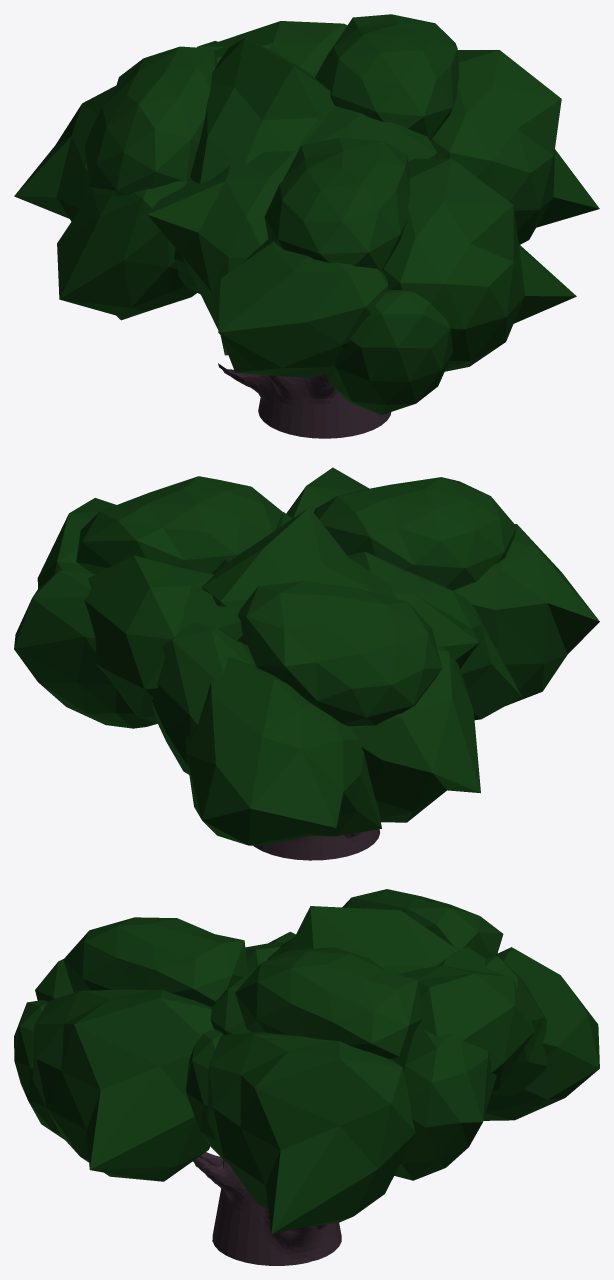
File: bushes.fbx
3 renders of one model, top to bottom at view 1: azimuth 30°, elevation 25°; view 2: azimuth 150°, elevation 25°; view 3: azimuth 270°, elevation 25°, orthographic. The views are drawn at different scales.
Visible parts, largest first — view 1: Cylinder; view 2: Cylinder; view 3: Cylinder.
Boxes of the visible parts, box(x1,y1,x2,y2) form: Cylinder: box(14, 14, 599, 438); Cylinder: box(14, 467, 599, 860); Cylinder: box(14, 889, 599, 1265).
Size of the model in its own units: 758 by 498 by 811.
